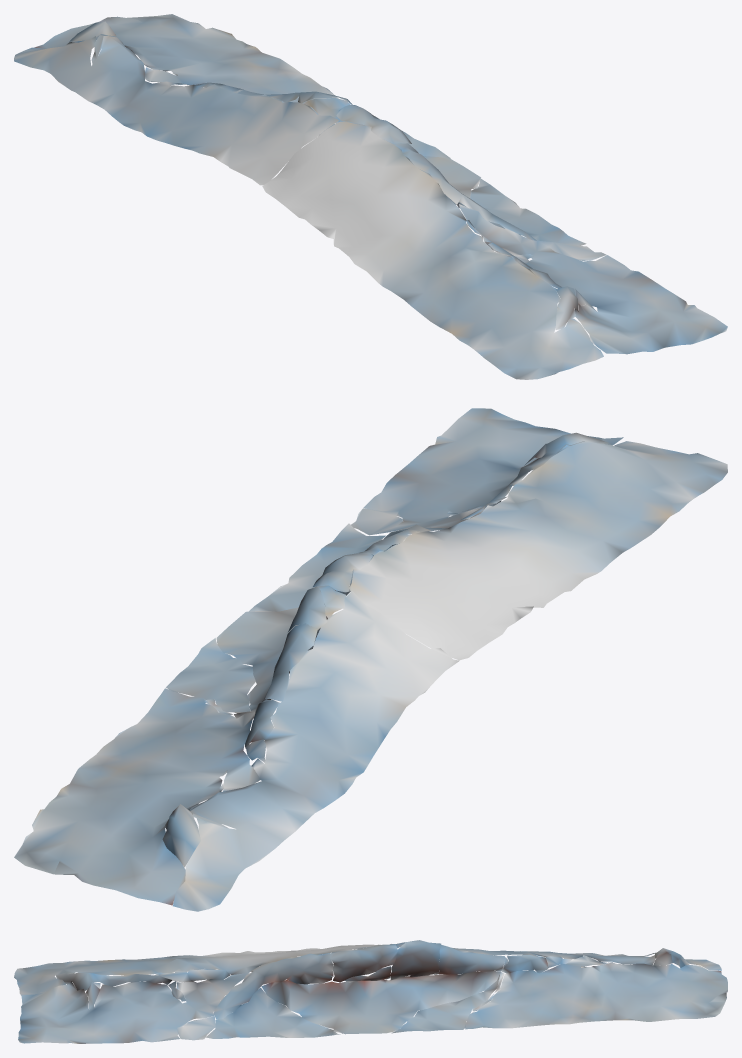
File: single_root_lod1.glb
3 views of the same model, one above another, from view 1: azimuth 30°, elevation 25°; view 2: azimuth 150°, elevation 25°; view 3: azimuth 270°, elevation 25° (orthographic). The views are drawn at different scales.
Visible parts, largest first — view 1: single_root; view 2: single_root; view 3: single_root.
Boxes of the visible parts, left/top/right/bottom form: single_root: left=14, top=14, right=727, bottom=379; single_root: left=14, top=408, right=727, bottom=911; single_root: left=14, top=940, right=727, bottom=1043.
Bounding box in the file's own units: 0.5557 × 0.1786 × 1.84.
